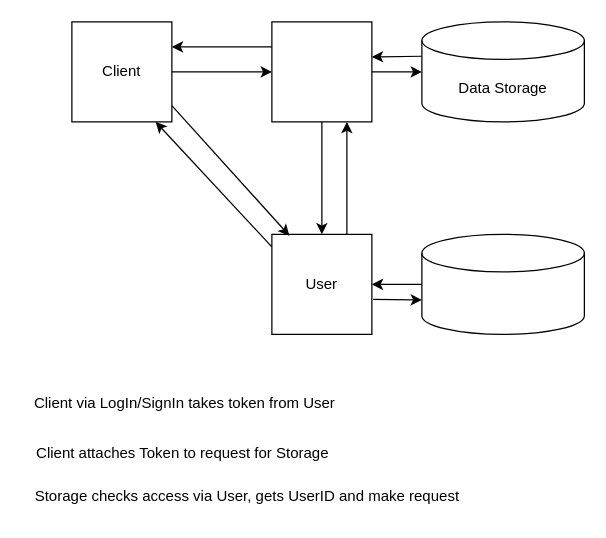
The diagram is 606 pixels wide and 538 high, and some of its shapes have lost their labels. Here are the shapes that lost their labels. From the top down, the centre of each, then its label:
(321,71): Storage
(502,283): Users Storage
